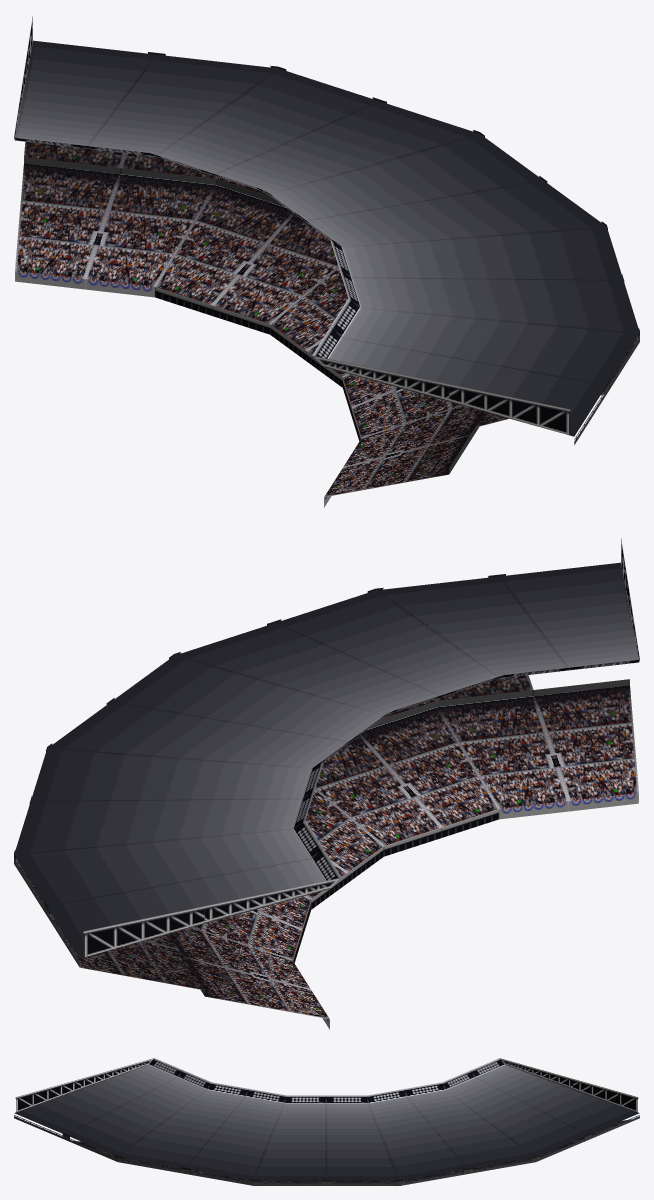
3 renders of one model, top to bottom at view 1: azimuth 30°, elevation 25°; view 2: azimuth 150°, elevation 25°; view 3: azimuth 270°, elevation 25°, orthographic. The views are drawn at different scales.
Size of the model in its own units: 89.72 by 33.8 by 221.
10 materials, 10 textured.
